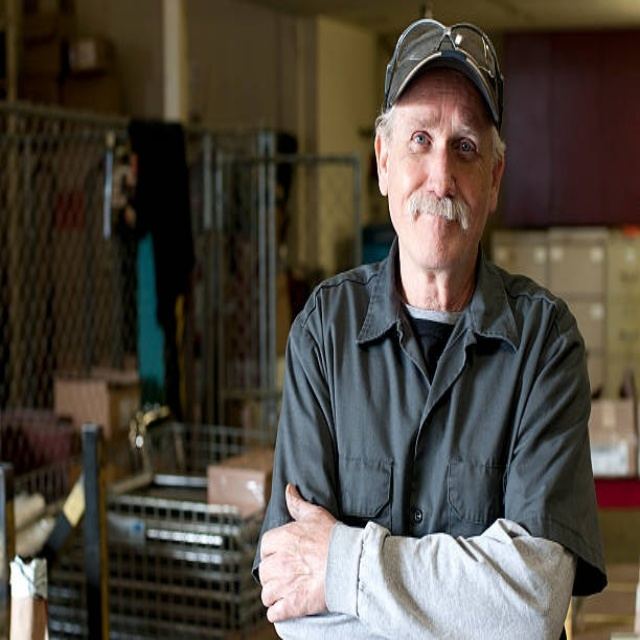Sin_gafas: (402, 120, 482, 166)
Sin_guantes: (256, 483, 337, 623)
Sin_mascara: (406, 192, 468, 251)
